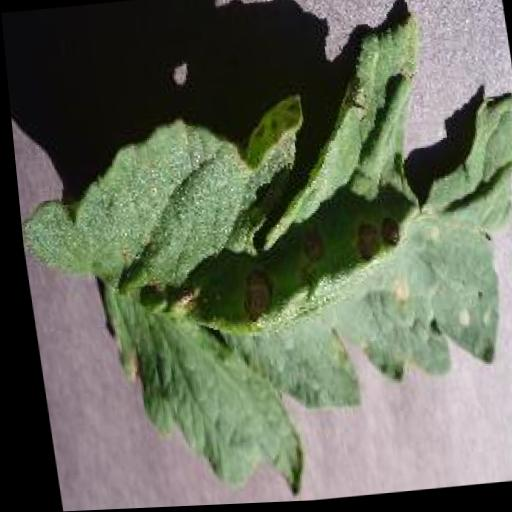Early Blight: (2, 13, 512, 509)
